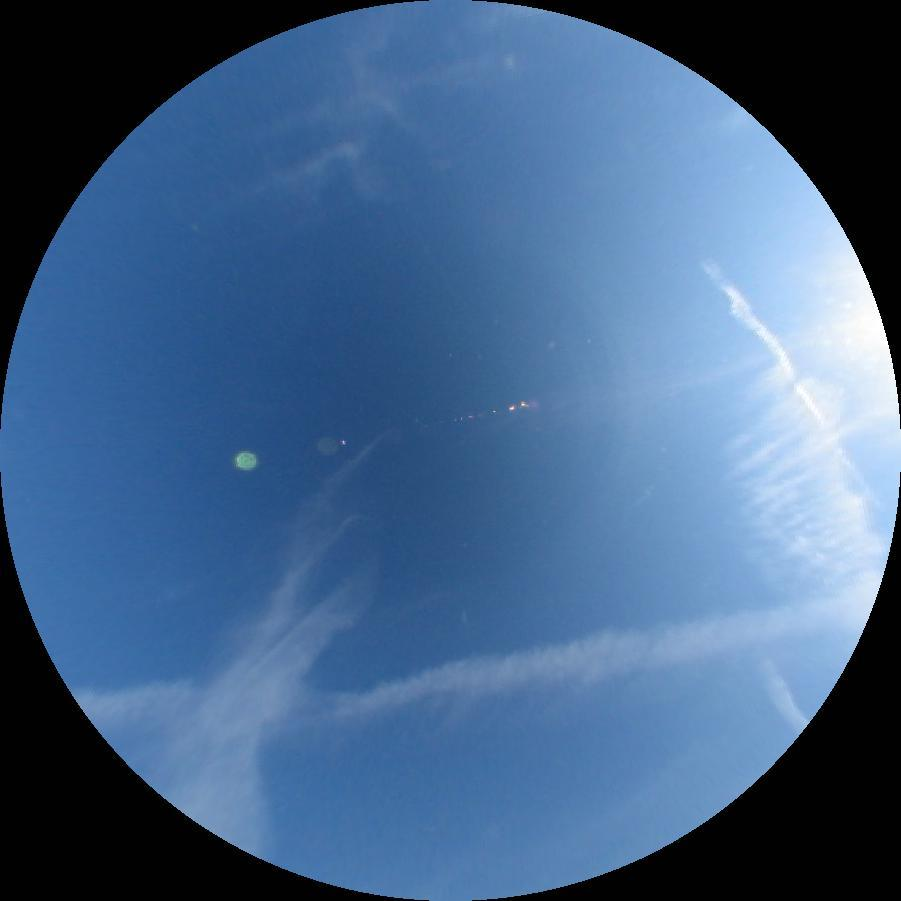contrail old: (695, 257, 900, 515), (755, 658, 813, 738)
contrail veryold: (73, 592, 855, 751)
